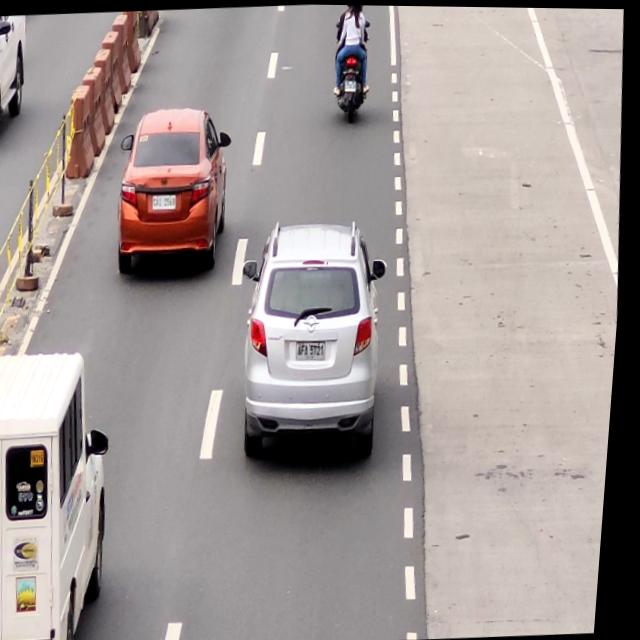Car: (235, 216, 397, 460), (0, 345, 122, 640), (109, 98, 241, 277)
License-Plate: (300, 337, 334, 363), (154, 193, 181, 211), (344, 77, 360, 94)
Motorcycle: (328, 4, 377, 124)
